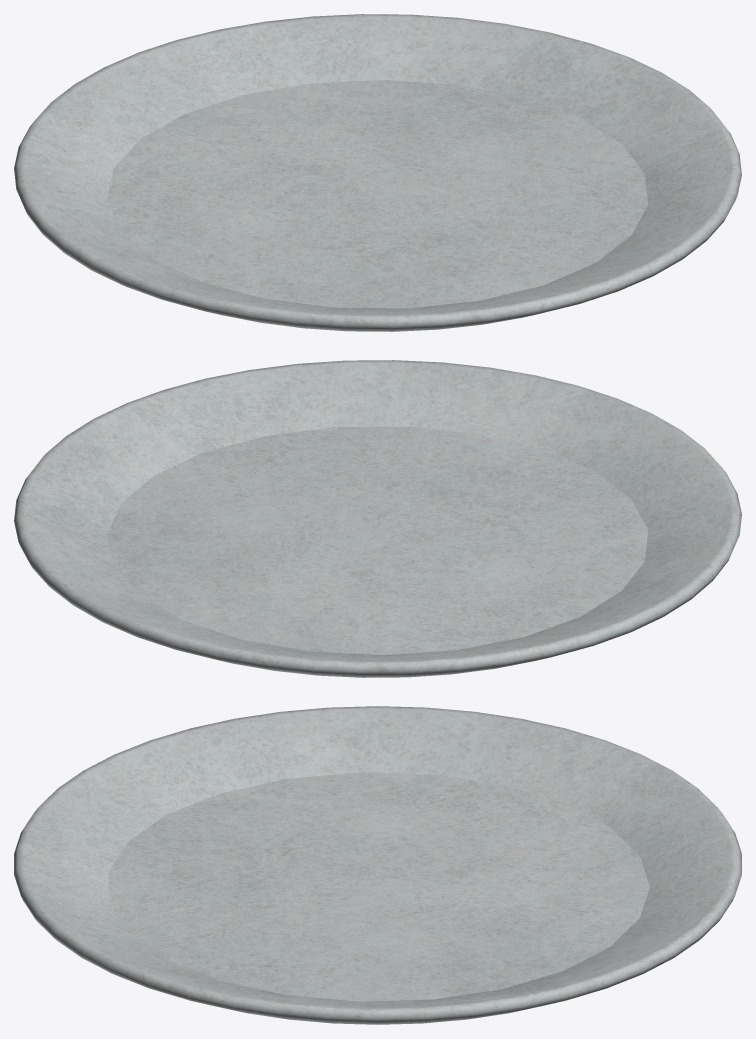
Rendered from plate.gltf.
3 renders of one model, top to bottom at view 1: azimuth 30°, elevation 25°; view 2: azimuth 150°, elevation 25°; view 3: azimuth 270°, elevation 25°, orthographic.
Parts seen in each view (by area): view 1: SM_Plate; view 2: SM_Plate; view 3: SM_Plate.
Boxes of the visible parts, x1,y1,x2,y2 form: SM_Plate: (14, 14, 741, 331); SM_Plate: (14, 360, 741, 677); SM_Plate: (14, 706, 741, 1024).
Size of the model in its own units: 0.1561 by 0.0122 by 0.1557.
Materials: 1 (1 with a texture image).
